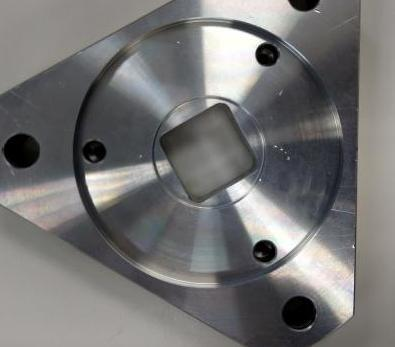hole: (0, 129, 42, 171), (277, 293, 318, 334), (78, 136, 110, 166), (250, 236, 280, 266), (252, 39, 282, 68), (284, 0, 325, 15)
